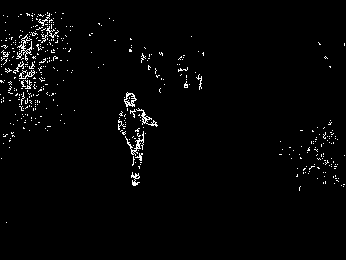person: (114, 90, 158, 187)
